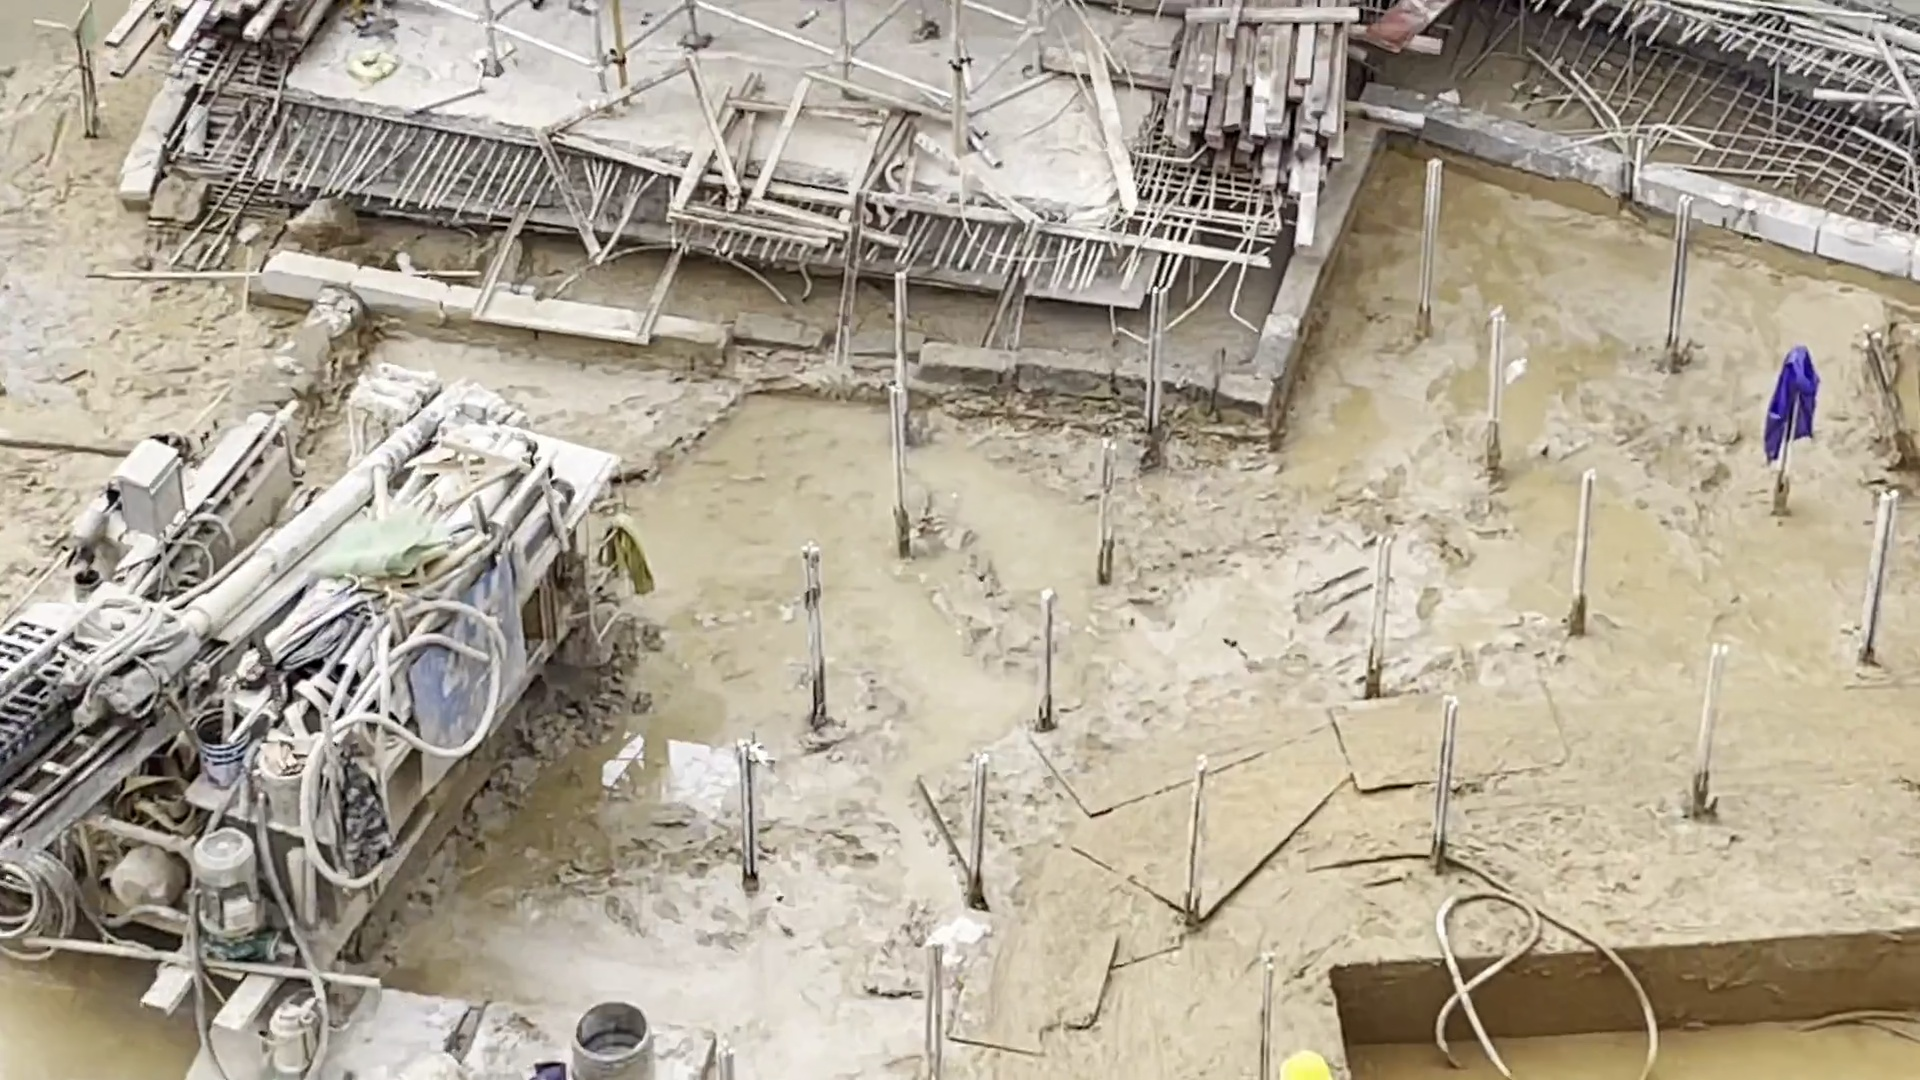helmet: (1273, 1046, 1336, 1080)
wood: (1156, 1, 1356, 266)
